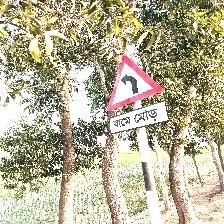Left-Turn: (106, 54, 169, 136)
